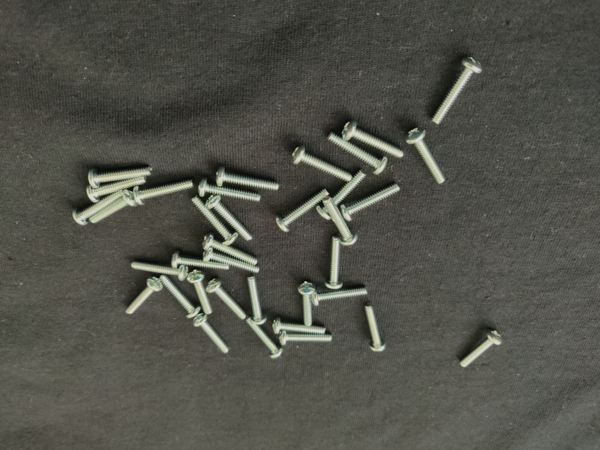longscrew: (432, 55, 484, 125), (327, 131, 389, 175), (316, 170, 368, 221), (275, 188, 331, 233), (342, 120, 405, 159), (191, 196, 240, 246), (340, 183, 401, 222), (206, 194, 255, 242), (291, 146, 354, 183), (406, 127, 446, 185), (71, 190, 124, 227), (159, 274, 202, 319), (88, 189, 139, 225), (202, 233, 259, 265), (460, 328, 504, 369), (323, 197, 359, 246), (207, 278, 248, 321), (245, 315, 284, 360), (85, 176, 147, 203), (214, 167, 280, 192), (132, 180, 194, 206), (125, 276, 164, 317), (198, 179, 261, 204), (203, 247, 261, 274), (194, 312, 229, 355), (87, 167, 153, 189), (131, 260, 189, 283), (363, 302, 387, 353), (188, 270, 214, 316), (171, 251, 230, 271), (311, 287, 369, 307), (324, 235, 345, 290), (247, 275, 269, 326), (272, 317, 327, 336), (279, 328, 333, 347), (298, 281, 317, 327)
